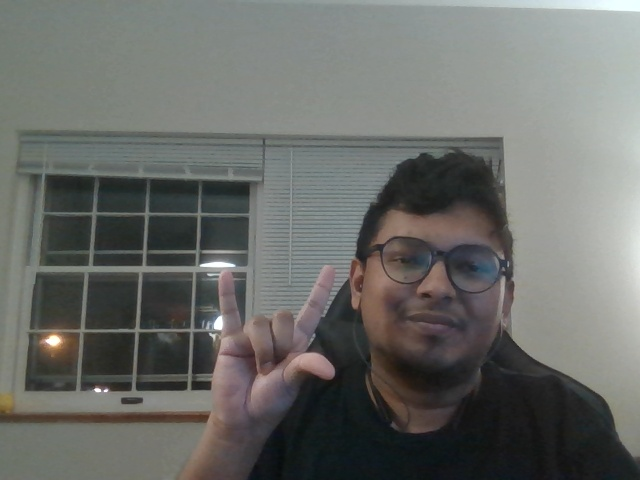ilikeyou: (194, 257, 343, 440)
